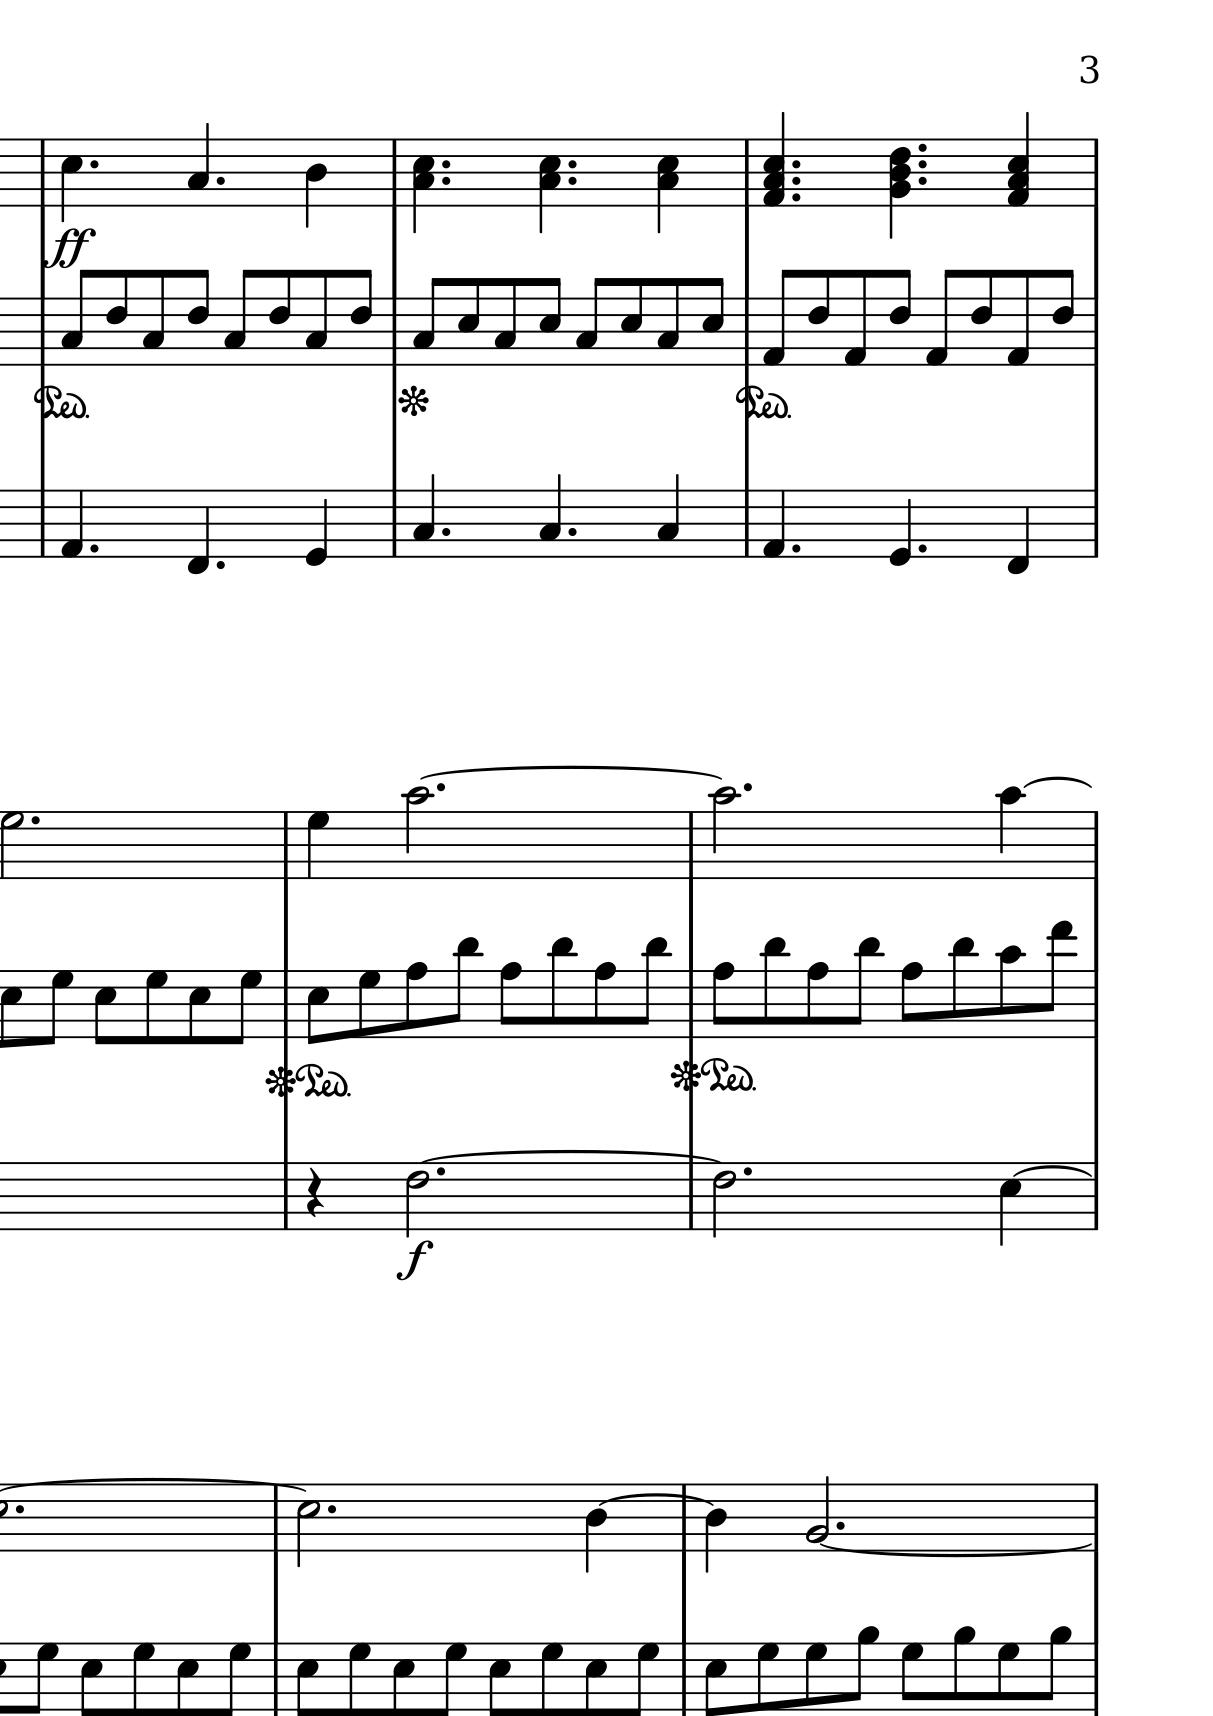2_10: (402, 783, 431, 884), (709, 784, 738, 881)
2_2: (803, 1474, 831, 1555)
2_5: (294, 1482, 320, 1569)
2_6: (404, 1161, 431, 1239), (710, 1161, 736, 1239)
2_7: (1, 807, 25, 881)
3: (1079, 53, 1097, 87)
4_-1: (184, 487, 210, 576), (1004, 487, 1031, 576)
4_0: (302, 487, 328, 568), (887, 487, 912, 567)
4_1: (58, 488, 85, 561), (760, 488, 786, 561)
4_10: (996, 785, 1024, 881)
4_3: (655, 473, 680, 559), (185, 122, 210, 207), (411, 473, 436, 558), (537, 473, 562, 558)
4_3_5: (411, 137, 436, 235), (655, 137, 680, 235), (537, 137, 562, 234)
4_4: (583, 1482, 608, 1576), (302, 137, 327, 228), (704, 1484, 729, 1576)
4_5: (996, 1161, 1023, 1249), (58, 137, 83, 223)
4_7: (305, 809, 331, 881)
4_th: (1004, 112, 1031, 210), (885, 138, 910, 240), (763, 109, 789, 206)
8_1: (922, 267, 958, 368), (760, 267, 796, 368), (1004, 267, 1031, 369), (841, 267, 868, 368)
8_10: (996, 944, 1023, 1040)
8_11: (634, 935, 667, 1041), (847, 935, 880, 1041), (446, 935, 479, 1040), (547, 935, 575, 1041), (949, 935, 975, 1040), (761, 935, 786, 1041)
8_13: (1040, 920, 1074, 1040)
8_3: (58, 269, 91, 369), (221, 268, 253, 368), (572, 276, 606, 368), (410, 274, 442, 368), (302, 267, 330, 368), (491, 276, 519, 368), (140, 268, 165, 368), (655, 276, 680, 368)
8_5: (456, 274, 480, 368), (618, 274, 643, 368), (700, 276, 725, 368), (537, 276, 561, 368), (92, 968, 117, 1048), (186, 968, 211, 1046), (305, 968, 330, 1046), (582, 1641, 608, 1715), (77, 1641, 102, 1716), (294, 1641, 319, 1716), (486, 1641, 511, 1716), (704, 1641, 729, 1716), (175, 1641, 200, 1715), (390, 1641, 415, 1715), (1, 969, 22, 1049)
8_6: (102, 267, 129, 369), (347, 267, 373, 369), (265, 267, 291, 368), (184, 268, 209, 369), (805, 267, 830, 368), (886, 267, 911, 368), (968, 267, 992, 368), (1049, 267, 1074, 368)
8_7: (228, 968, 263, 1046), (41, 968, 74, 1046), (626, 1641, 660, 1716), (217, 1642, 251, 1716), (435, 1641, 467, 1715), (28, 1641, 59, 1715), (143, 968, 169, 1046), (130, 1641, 156, 1716), (994, 1641, 1021, 1712), (538, 1641, 564, 1715), (899, 1641, 926, 1713), (347, 1641, 372, 1715), (755, 1641, 780, 1713), (356, 969, 381, 1039), (803, 1641, 828, 1711)
8_8: (402, 961, 427, 1041), (498, 961, 522, 1041), (710, 961, 735, 1040), (592, 961, 616, 1041), (899, 961, 923, 1041), (805, 962, 828, 1041)
8_9: (847, 1625, 881, 1713), (1038, 1625, 1073, 1713), (950, 1625, 977, 1713)
Rests4: (302, 1166, 326, 1221)
Single_barline: (1084, 1163, 1105, 1232), (675, 1642, 694, 1713), (1084, 1642, 1104, 1713), (676, 1485, 696, 1553), (266, 1642, 285, 1713), (738, 139, 756, 207), (277, 970, 295, 1039), (276, 1162, 294, 1230), (1086, 140, 1104, 207), (277, 811, 295, 878), (34, 140, 53, 206), (385, 140, 403, 206), (385, 491, 403, 557), (34, 297, 51, 366), (738, 298, 755, 368), (683, 1165, 701, 1229), (1086, 1484, 1104, 1548), (386, 298, 403, 366), (1086, 298, 1103, 366), (738, 490, 755, 558), (683, 970, 700, 1039), (1086, 970, 1103, 1039), (683, 811, 700, 878), (266, 1493, 285, 1553), (34, 490, 50, 558), (1087, 490, 1103, 557), (1087, 811, 1103, 878)
Slur: (421, 1146, 725, 1163), (817, 1545, 1079, 1562), (420, 765, 733, 779), (597, 1491, 715, 1506), (1010, 1166, 1094, 1180), (1025, 777, 1094, 789)
dot: (438, 172, 454, 188), (740, 1165, 756, 1180), (85, 156, 100, 173), (324, 1501, 339, 1518), (213, 557, 227, 572), (832, 1518, 847, 1534), (12, 1502, 26, 1516), (914, 140, 929, 154), (564, 175, 580, 188), (740, 780, 754, 796), (564, 158, 579, 171), (789, 158, 803, 171), (789, 190, 803, 204), (438, 525, 452, 540), (915, 541, 928, 555), (28, 813, 41, 827), (915, 159, 931, 171), (438, 158, 452, 171), (564, 525, 578, 538), (87, 542, 100, 555), (789, 542, 802, 555), (433, 1166, 446, 1179), (214, 173, 226, 188), (789, 175, 803, 186), (915, 175, 929, 186), (435, 781, 446, 796)
f: (393, 1239, 435, 1283)
ff: (45, 225, 96, 269)
